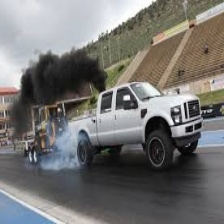smoke: (10, 51, 106, 97), (40, 138, 78, 163)
